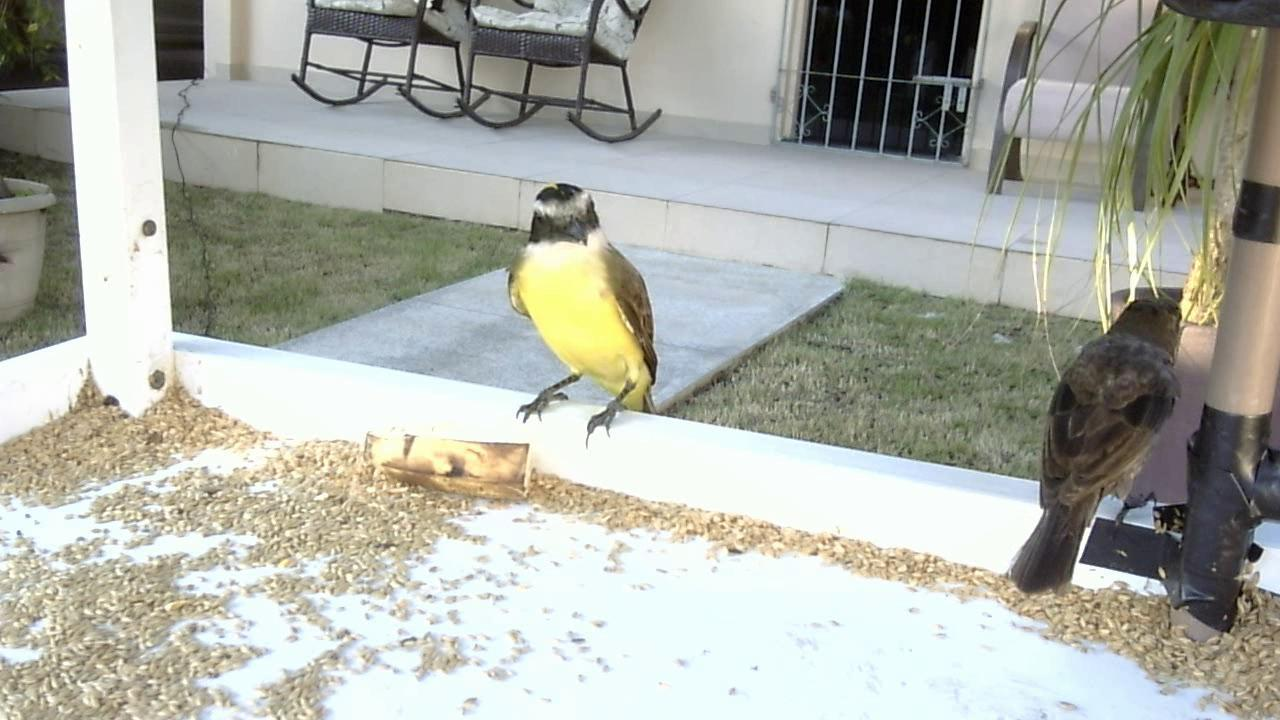bem_te_vi: (499, 174, 669, 458)
chupim: (993, 288, 1198, 600)
